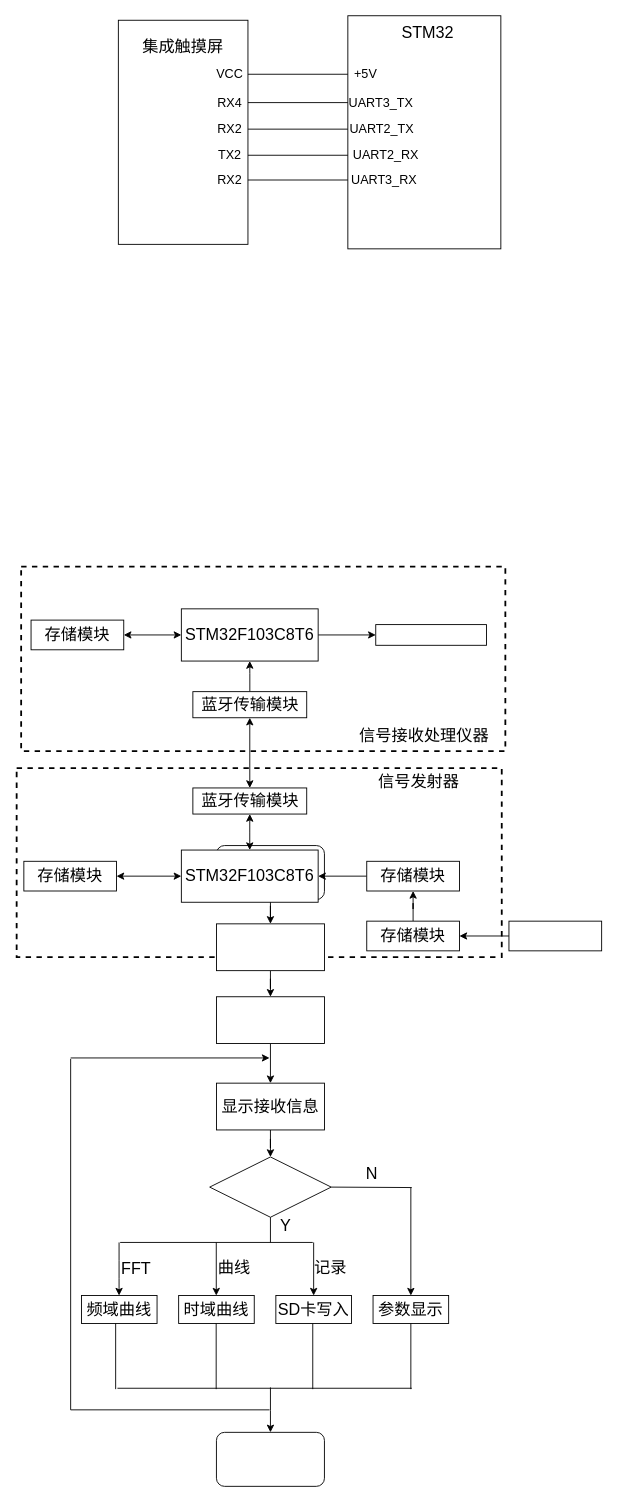
The diagram is 617 pixels wide and 1502 high, and some of its shapes have lost their labels. The centre of each missing label's shape, as x and y in pixels:
"ICP传感器" goes at point 555,935.
"屏幕有触摸" goes at point 270,1186.
"系统初始化" goes at point 270,947.
"结束" goes at point 270,1458.
"触摸显示模块" goes at point 430,634.
"连接从设备" goes at point 270,1020.
